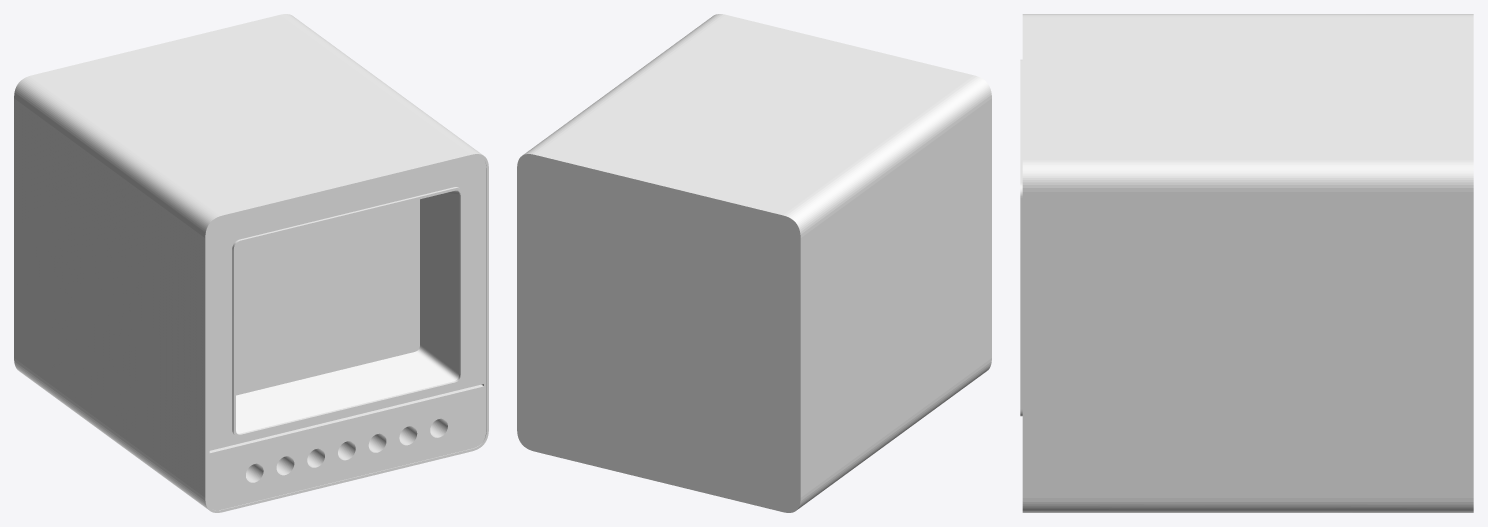
File: osclliscope2.glb
3 views of the same model, side by side, from view 1: azimuth 30°, elevation 25°; view 2: azimuth 150°, elevation 25°; view 3: azimuth 270°, elevation 25° (orthographic). The views are drawn at different scales.
Visible parts, largest first — view 1: oscilloscope (2); view 2: oscilloscope (2); view 3: oscilloscope (2).
Part boxes in pixels (x1,y1,x2,y2): oscilloscope (2): (14,14,488,512); oscilloscope (2): (517,14,991,512); oscilloscope (2): (1020,14,1473,512).
Size of the model in its own units: 59.14 by 59.14 by 69.49.
Materials: 1 (1 with a texture image).
